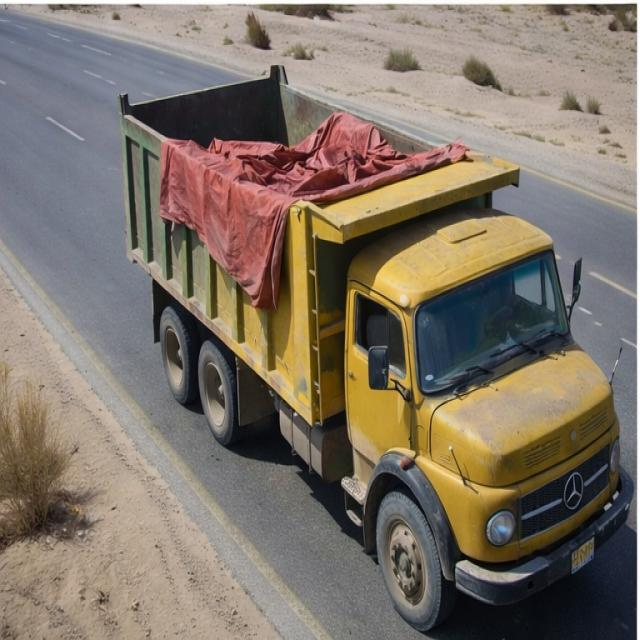trailer: (115, 52, 527, 234)
truck: (85, 32, 632, 612)
